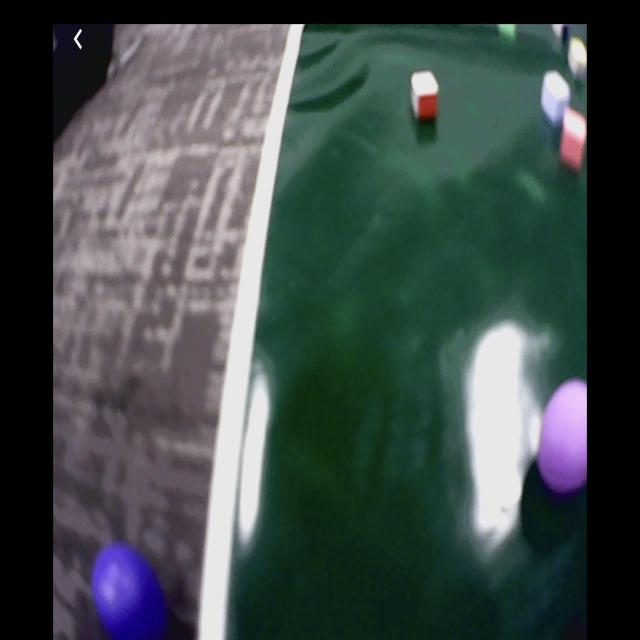ball: (91, 541, 169, 640), (538, 376, 588, 495)
